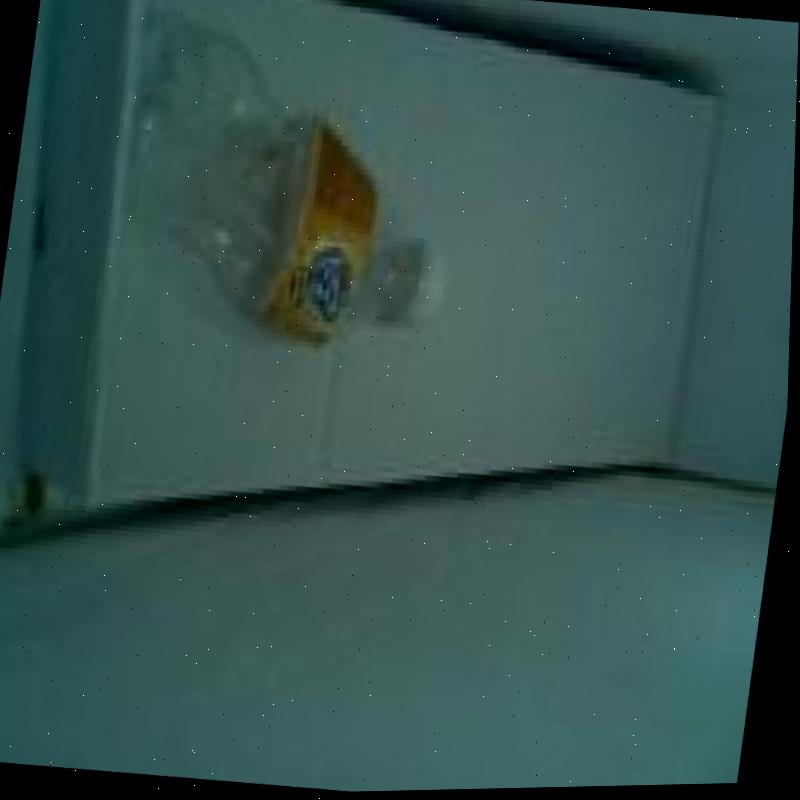botella: (100, 8, 481, 369)
